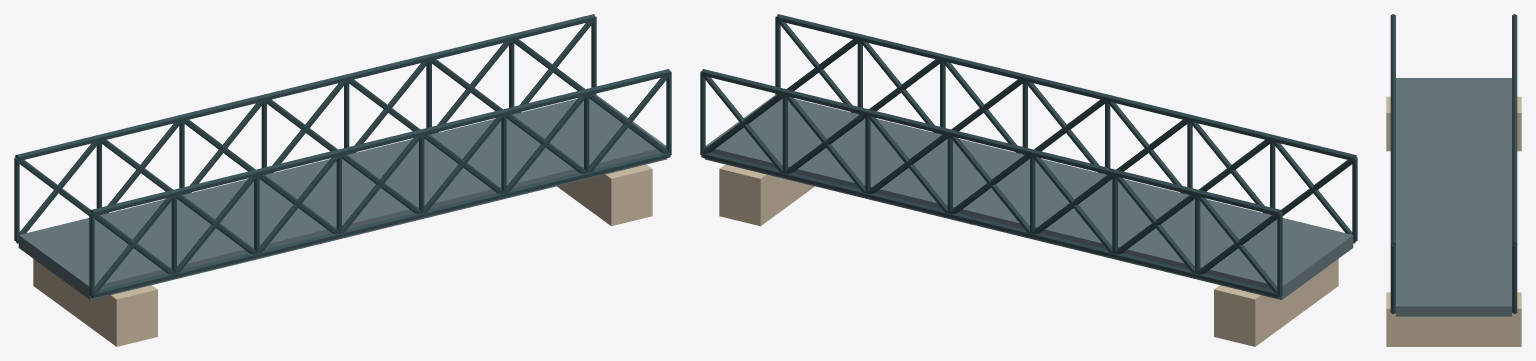
The model's file is garden-bridge.glb.
The picture shows the model from 3 angles, left to right: view 1: azimuth 30°, elevation 25°; view 2: azimuth 150°, elevation 25°; view 3: azimuth 270°, elevation 25°; orthographic projection. The views are drawn at different scales.
Visible parts, largest first — view 1: garden-bridge; view 2: garden-bridge; view 3: garden-bridge.
Boxes of the visible parts, x1,y1,x2,y2 form: garden-bridge: (14,14,671,346); garden-bridge: (700,14,1357,346); garden-bridge: (1386,14,1521,346).
Size of the model in its own units: 28.26 by 6.46 by 7.
